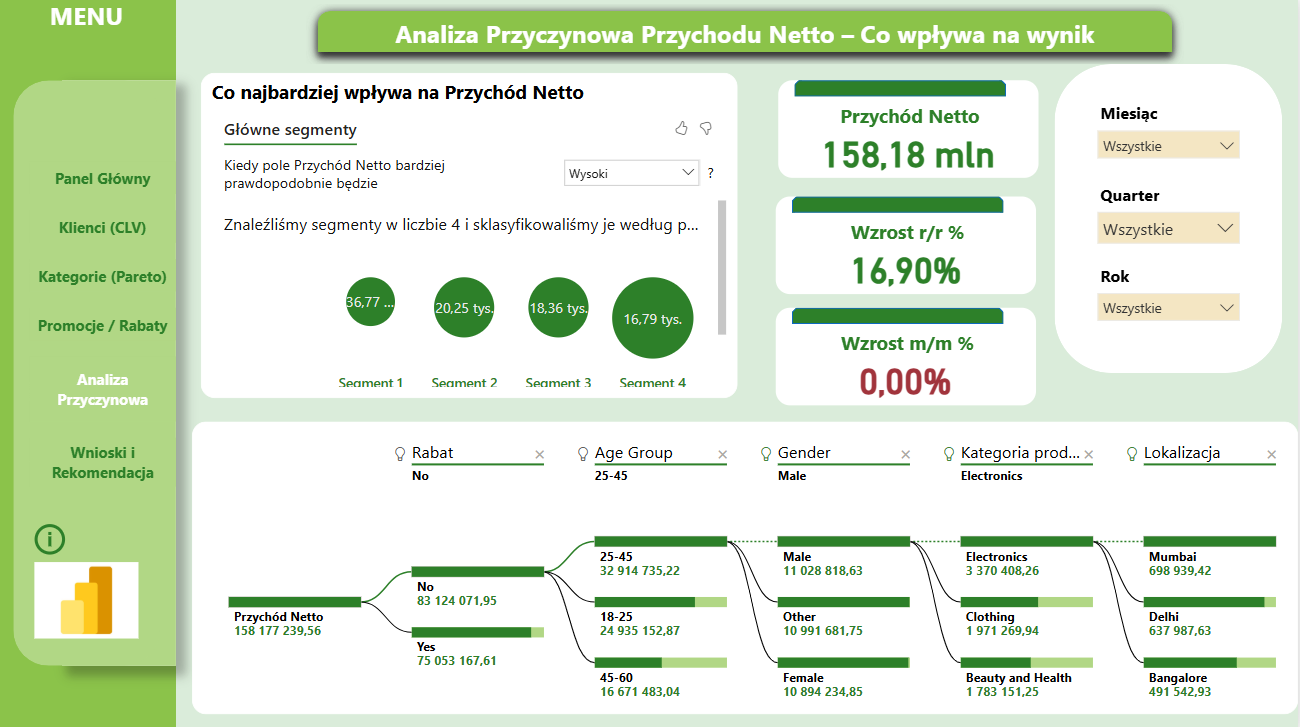

The dashboard page shown, as its layout file describes it:
{"tool":"powerbi","page":{"name":"Analiza Przyczynowa","canvas":[1280,720],"ordinal":5},"visuals":[{"type":"shape","title":"MENU","box":[0,0,176,720],"z":0,"group":"g1"},{"type":"shape","title":"naglowek","box":[304,0,864,64],"z":0},{"type":"actionButton","title":"Wnioski i Rekomendacja","box":[32,432,144,48],"z":0,"group":"g2"},{"type":"shape","title":"boczny pasek2","box":[64,80,112,576],"z":1000,"group":"g1"},{"type":"card","title":"Przychód Netto","fields":{"Values":["Sprzedaz.Przychód Netto"]},"box":[768,80,256,96],"z":1000},{"type":"actionButton","title":"insight","box":[32,352,144,64],"z":1000,"group":"g2"},{"type":"shape","title":"boczny pasek1","box":[16,80,144,576],"z":2000,"group":"g1"},{"type":"shape","box":[784,80,208,16],"z":2000},{"type":"actionButton","title":"promocje i rabaty","box":[32,304,144,32],"z":2000,"group":"g2"},{"type":"group","id":"g1","title":"Menu","box":[0,0,176,720],"z":3000},{"type":"actionButton","title":"Pereto","box":[32,256,144,32],"z":3000,"group":"g2"},{"type":"image","title":"logo","box":[32,544,112,96],"z":3000,"group":"g1"},{"type":"group","id":"g2","title":"strony","box":[32,160,144,392],"z":4000,"group":"g1"},{"type":"actionButton","title":"klienci","box":[32,208,144,32],"z":4000,"group":"g2"},{"type":"decompositionTreeVisual","fields":{"Analyze":["Sprzedaz.Przychód Netto"],"ExplainBy":["Rabat.Rabat","Klient.Age Group","Klient.Gender","Produkt.Kategoria produktu","Lokalizacja.Lokalizacja"]},"box":[192,416,1088,288],"z":4000},{"type":"keyDriversVisual","title":"Co najbardziej wpływa na Przychód Netto","fields":{"Target":["Sprzedaz.Przychód Netto"],"ExplainBy":["Produkt.Kategoria produktu","Klient.Age Group","Klient.Gender","Rabat.Rabat","Lokalizacja.Lokalizacja","Sprzedaz.Purchase Method"]},"box":[200,72,528,320],"z":5000},{"type":"actionButton","title":"Panel","box":[32,160,144,32],"z":5000,"group":"g2"},{"type":"shape","title":"filtry","box":[1040,64,224,304],"z":6000},{"type":"actionButton","title":"info","box":[32,512,40,40],"z":6000,"group":"g2"},{"type":"slicer","title":"lokalizacja","fields":{"Values":["Kalendarz.Quarter"]},"box":[1072,176,160,80],"z":7000},{"type":"slicer","title":"miesiac","fields":{"Values":["Kalendarz.MonthName"]},"box":[1072,96,160,80],"z":8000},{"type":"slicer","title":"rok","fields":{"Values":["Kalendarz.Year"]},"box":[1072,256,160,80],"z":9000},{"type":"card","title":"Wzrost r/r %","fields":{"Values":["Sprzedaz.Wzrost r/r %"]},"box":[765.8,193.9,256,96],"z":10000},{"type":"shape","box":[781.8,193.9,208,16],"z":11000},{"type":"card","title":"Wzrost m/m %","fields":{"Values":["Sprzedaz.Wzrost m/m %"]},"box":[765.8,303.4,256,96],"z":12000},{"type":"shape","box":[781.8,303.4,208,16],"z":13000}]}

Visuals, with their boxes in screenshot pixels (x1, y1, x2, y2), scaled from the page's 1280x720 canvas onto the 1300x727 screenshot:
"MENU" shape: locate(0, 0, 179, 726)
"naglowek" shape: locate(309, 0, 1186, 65)
"Wnioski i Rekomendacja" actionButton: locate(32, 436, 179, 485)
"boczny pasek2" shape: locate(65, 81, 179, 662)
"Przychód Netto" card: locate(780, 81, 1040, 178)
"insight" actionButton: locate(32, 355, 179, 420)
"boczny pasek1" shape: locate(16, 81, 162, 662)
shape: locate(796, 81, 1008, 97)
"promocje i rabaty" actionButton: locate(32, 307, 179, 339)
"Menu" group: locate(0, 0, 179, 726)
"Pereto" actionButton: locate(32, 258, 179, 291)
"logo" image: locate(32, 549, 146, 646)
"strony" group: locate(32, 162, 179, 557)
"klienci" actionButton: locate(32, 210, 179, 242)
decompositionTreeVisual - Sprzedaz.Przychód Netto x Rabat.Rabat: locate(195, 420, 1299, 711)
"Co najbardziej wpływa na Przychód Netto" keyDriversVisual: locate(203, 73, 739, 396)
"Panel" actionButton: locate(32, 162, 179, 194)
"filtry" shape: locate(1056, 65, 1284, 372)
"info" actionButton: locate(32, 517, 73, 557)
"lokalizacja" slicer: locate(1089, 178, 1251, 258)
"miesiac" slicer: locate(1089, 97, 1251, 178)
"rok" slicer: locate(1089, 258, 1251, 339)
"Wzrost r/r %" card: locate(778, 196, 1038, 293)
shape: locate(794, 196, 1005, 212)
"Wzrost m/m %" card: locate(778, 306, 1038, 403)
shape: locate(794, 306, 1005, 323)
